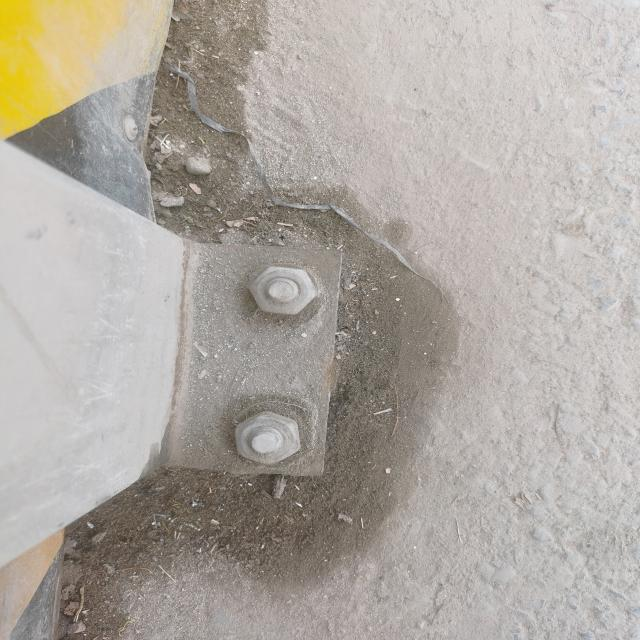bolt nut: (229, 409, 305, 466), (246, 262, 320, 319)
